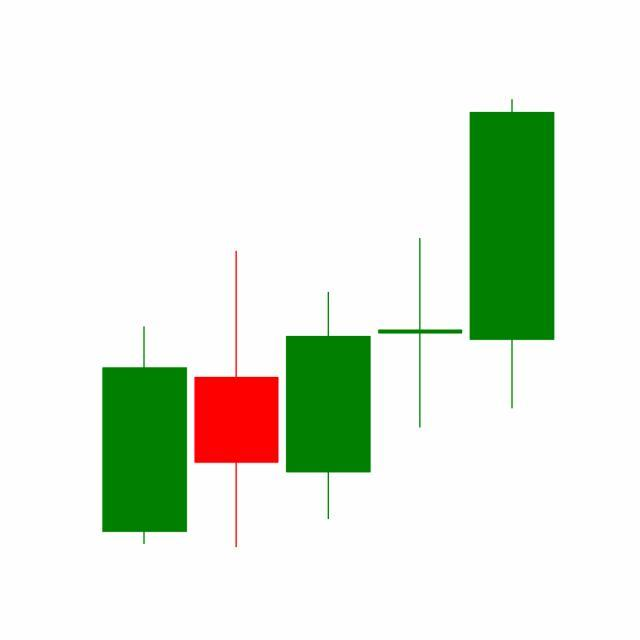Three Outside Up-Down: (190, 234, 467, 548)
